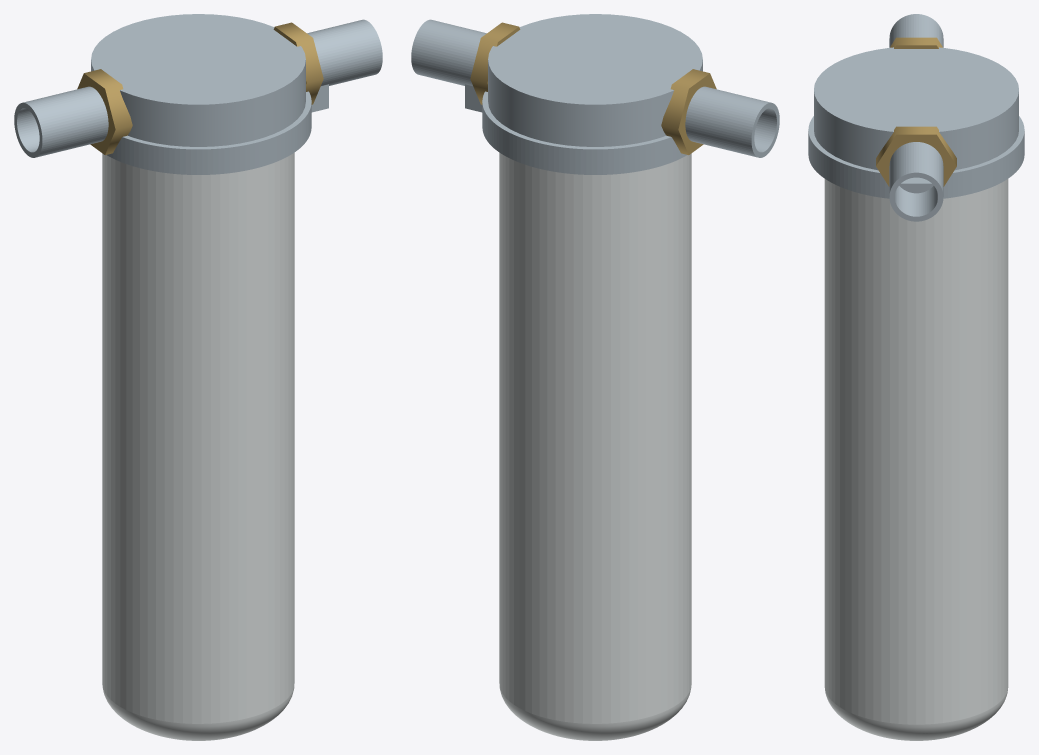
The model's file is water-filter.glb.
3 views of the same model, side by side, from view 1: azimuth 30°, elevation 25°; view 2: azimuth 150°, elevation 25°; view 3: azimuth 270°, elevation 25° (orthographic). The views are drawn at different scales.
Parts seen in each view (by area): view 1: Cốc lọc tháo xuống, Đầu lọc cố định, Đai khóa; view 2: Cốc lọc tháo xuống, Đầu lọc cố định, Đai khóa; view 3: Cốc lọc tháo xuống, Đầu lọc cố định, Đai khóa.
Boxes of the visible parts, x1,y1,x2,y2 form: Cốc lọc tháo xuống: (102,152,294,740); Đầu lọc cố định: (14,14,382,157); Đai khóa: (107,84,328,174); Cốc lọc tháo xuống: (499,152,691,740); Đầu lọc cố định: (411,14,779,157); Đai khóa: (465,84,686,174); Cốc lọc tháo xuống: (824,179,1008,740); Đầu lọc cố định: (814,14,1018,221); Đai khóa: (808,116,1024,198).
Size of the model in its own units: 1.39 by 2.61 by 0.8.
